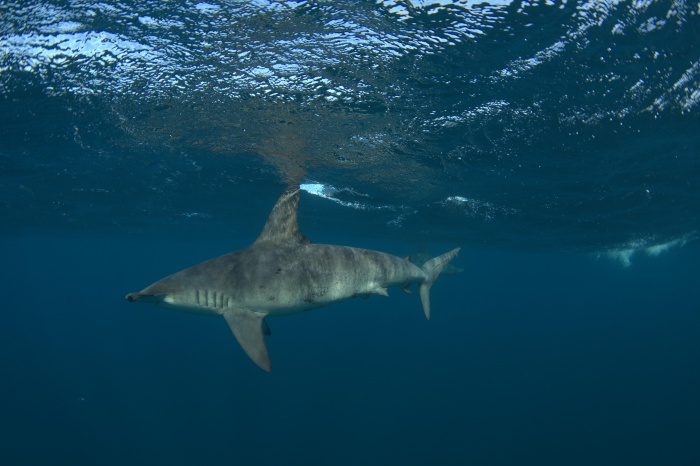Hammer: (95, 157, 481, 392)
